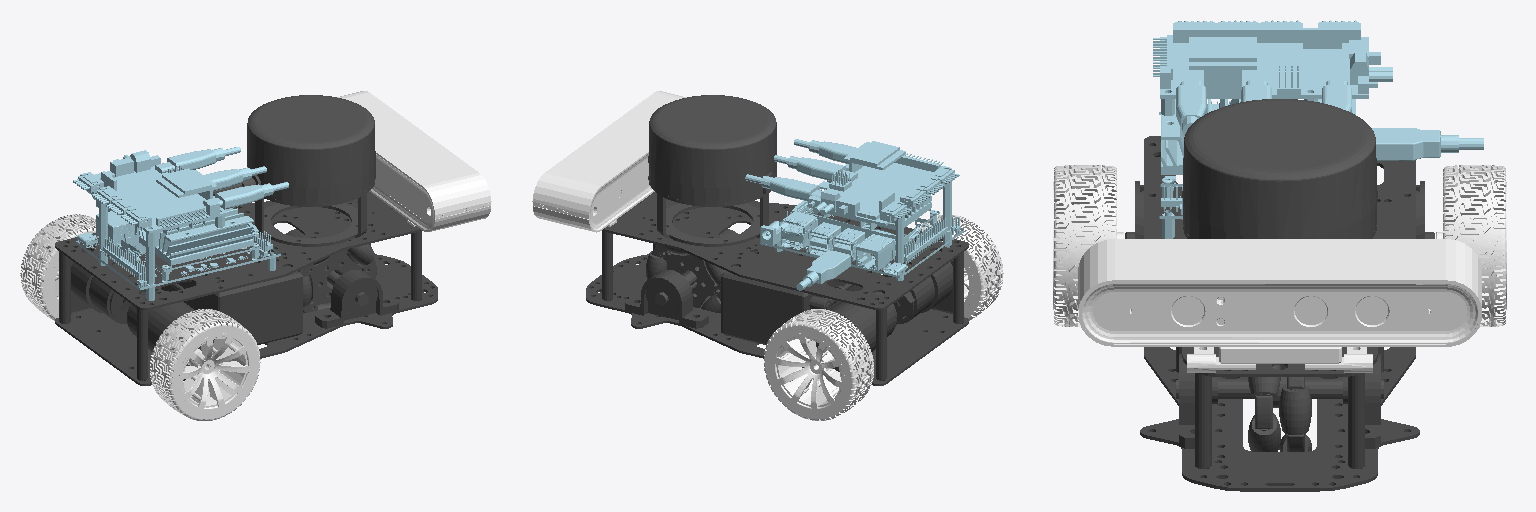
URDF robot description (mini_diff_robot):
<?xml version="1.0" encoding="utf-8"?>
<!-- This URDF was automatically created by SolidWorks to URDF Exporter! Originally created by [author] ([email redacted]) 
     Commit Version: 1.6.0-4-g7f85cfe  Build Version: 1.6.7995.38578
     For more information, please see http://wiki.ros.org/sw_urdf_exporter -->
<robot
  name="mini_diff_robot">
  <link
    name="base_link">
    <inertial>
      <origin
        xyz="-0.0189235960546199 9.05026804837732E-05 0.0215071924292335"
        rpy="0 0 0" />
      <mass
        value="0.401051738530766" />
      <inertia
        ixx="0.000246070776118601"
        ixy="1.87631429488719E-06"
        ixz="7.31414518571882E-07"
        iyy="0.000368949634983636"
        iyz="-4.15485848351081E-07"
        izz="0.000529231877397729" />
    </inertial>
    <visual>
      <origin
        xyz="0 0 0"
        rpy="0 0 0" />
      <geometry>
        <mesh
          filename="package://wheeltec_robot_urdf/meshes/mini_diff_robot_meshes/base_link.STL" />
      </geometry>
      <material
        name="">
        <color
          rgba="0.349019607843137 0.349019607843137 0.349019607843137 1" />
      </material>
    </visual>
    <collision>
      <origin
        xyz="0 0 0"
        rpy="0 0 0" />
      <geometry>
        <mesh
          filename="package://wheeltec_robot_urdf/meshes/mini_diff_robot_meshes/base_link.STL" />
      </geometry>
    </collision>
  </link>
  <link
    name="front_link">
    <inertial>
      <origin
        xyz="-1.47494718217983E-05 -1.93343915743998E-05 -8.69445031316304E-05"
        rpy="0 0 0" />
      <mass
        value="0.0373449888165875" />
      <inertia
        ixx="1.29829858117941E-05"
        ixy="5.65959966526581E-08"
        ixz="4.68086982069799E-08"
        iyy="1.79292839228678E-05"
        iyz="3.01923849693133E-08"
        izz="1.29419322633102E-05" />
    </inertial>
    <visual>
      <origin
        xyz="0 0 0"
        rpy="0 0 0" />
      <geometry>
        <mesh
          filename="package://wheeltec_robot_urdf/meshes/mini_diff_robot_meshes/front_link.STL" />
      </geometry>
      <material
        name="">
        <color
          rgba="0.376470588235294 0.376470588235294 0.376470588235294 1" />
      </material>
    </visual>
    <collision>
      <origin
        xyz="0 0 0"
        rpy="0 0 0" />
      <geometry>
        <mesh
          filename="package://wheeltec_robot_urdf/meshes/mini_diff_robot_meshes/front_link.STL" />
      </geometry>
    </collision>
  </link>
  <joint
    name="front_joint"
    type="continuous">
    <origin
      xyz="0.064002 3.4931E-05 0.0141"
      rpy="0 0 0" />
    <parent
      link="base_link" />
    <child
      link="front_link" />
    <axis
      xyz="-0.0024698 -1 0" />
  </joint>
  <link
    name="left_link">
    <inertial>
      <origin
        xyz="-1.74331101290837E-07 -0.00020820313081131 3.92074334179537E-08"
        rpy="0 0 0" />
      <mass
        value="0.0456749739710292" />
      <inertia
        ixx="1.81808804758144E-05"
        ixy="-1.75758106169756E-11"
        ixz="3.9951170980621E-12"
        iyy="3.14403862750805E-05"
        iyz="1.23310532276976E-11"
        izz="1.81803658343481E-05" />
    </inertial>
    <visual>
      <origin
        xyz="0 0 0"
        rpy="0 0 0" />
      <geometry>
        <mesh
          filename="package://wheeltec_robot_urdf/meshes/mini_diff_robot_meshes/left_link.STL" />
      </geometry>
      <material
        name="">
        <color
          rgba="1 1 1 1" />
      </material>
    </visual>
    <collision>
      <origin
        xyz="0 0 0"
        rpy="0 0 0" />
      <geometry>
        <mesh
          filename="package://wheeltec_robot_urdf/meshes/mini_diff_robot_meshes/left_link.STL" />
      </geometry>
    </collision>
  </link>
  <joint
    name="left_joint"
    type="continuous">
    <origin
      xyz="-0.069657 0.07975 0.0162"
      rpy="0 0 0" />
    <parent
      link="base_link" />
    <child
      link="left_link" />
    <axis
      xyz="0 -1 0" />
  </joint>
  <link
    name="right_link">
    <inertial>
      <origin
        xyz="-1.21870783534317E-07 0.000208202451016909 3.9181444321662E-08"
        rpy="0 0 0" />
      <mass
        value="0.0456749741036597" />
      <inertia
        ixx="1.81808804107878E-05"
        ixy="-1.75851330929254E-11"
        ixz="-3.93260181163677E-12"
        iyy="3.14403862381703E-05"
        iyz="-1.23305982339271E-11"
        izz="1.81803658691048E-05" />
    </inertial>
    <visual>
      <origin
        xyz="0 0 0"
        rpy="0 0 0" />
      <geometry>
        <mesh
          filename="package://wheeltec_robot_urdf/meshes/mini_diff_robot_meshes/right_link.STL" />
      </geometry>
      <material
        name="">
        <color
          rgba="1 1 1 1" />
      </material>
    </visual>
    <collision>
      <origin
        xyz="0 0 0"
        rpy="0 0 0" />
      <geometry>
        <mesh
          filename="package://wheeltec_robot_urdf/meshes/mini_diff_robot_meshes/right_link.STL" />
      </geometry>
    </collision>
  </link>
  <joint
    name="right_joint"
    type="continuous">
    <origin
      xyz="-0.069657 -0.079776 0.0162"
      rpy="0 0 0" />
    <parent
      link="base_link" />
    <child
      link="right_link" />
    <axis
      xyz="0 1 0" />
  </joint>
  <link
    name="controller_link">
    <inertial>
      <origin
        xyz="-0.0513531699176342 0.0474963429876354 0.0444073306956666"
        rpy="0 0 0" />
      <mass
        value="0.0335306890026228" />
      <inertia
        ixx="1.91764077163967E-05"
        ixy="9.52727501026462E-07"
        ixz="-5.8438470510299E-08"
        iyy="2.19811763093923E-05"
        iyz="3.14216738930503E-07"
        izz="4.00893380787536E-05" />
    </inertial>
    <visual>
      <origin
        xyz="0 0 0"
        rpy="0 0 0" />
      <geometry>
        <mesh
          filename="package://wheeltec_robot_urdf/meshes/mini_diff_robot_meshes/controller_link.STL" />
      </geometry>
      <material
        name="">
        <color
          rgba="0.741176470588235 0.901960784313726 0.956862745098039 1" />
      </material>
    </visual>
    <collision>
      <origin
        xyz="0 0 0"
        rpy="0 0 0" />
      <geometry>
        <mesh
          filename="package://wheeltec_robot_urdf/meshes/mini_diff_robot_meshes/controller_link.STL" />
      </geometry>
    </collision>
  </link>
  <joint
    name="controller_joint"
    type="fixed">
    <origin
      xyz="-0.00035718 -0.04684 0.0515"
      rpy="0 0 0" />
    <parent
      link="base_link" />
    <child
      link="controller_link" />
    <axis
      xyz="0 0 0" />
  </joint>
  <link
    name="laser_link">
    <inertial>
      <origin
        xyz="0.00196458631141112 -3.57895386319134E-06 -0.000201831632453575"
        rpy="0 0 0" />
      <mass
        value="0.047751916373633" />
      <inertia
        ixx="3.38461999752882E-05"
        ixy="-2.19897167172158E-09"
        ixz="1.07118468708652E-06"
        iyy="3.94150415870058E-05"
        iyz="6.83978371158863E-10"
        izz="5.60787042116943E-05" />
    </inertial>
    <visual>
      <origin
        xyz="0 0 0"
        rpy="0 0 0" />
      <geometry>
        <mesh
          filename="package://wheeltec_robot_urdf/meshes/mini_diff_robot_meshes/laser.STL" />
      </geometry>
      <material
        name="">
        <color
          rgba="0.376470588235294 0.376470588235294 0.376470588235294 1" />
      </material>
    </visual>
    <collision>
      <origin
        xyz="0 0 0"
        rpy="0 0 0" />
      <geometry>
        <mesh
          filename="package://wheeltec_robot_urdf/meshes/mini_diff_robot_meshes/laser.STL" />
      </geometry>
    </collision>
  </link>
  <joint
    name="laser_joint"
    type="fixed">
    <origin
      xyz="0.051343 -1.2576E-05 0.094524"
      rpy="0 0 3.1416" />
    <parent
      link="base_link" />
    <child
      link="laser_link" />
    <axis
      xyz="0 0 0" />
  </joint>
  <link
    name="camera_link">
    <inertial>
      <origin
        xyz="-3.17419041426237E-07 -3.53954923411071E-07 1.07624235690107E-07"
        rpy="0 0 0" />
      <mass
        value="0.0559842512080128" />
      <inertia
        ixx="0.000130810959339215"
        ixy="1.20255128206772E-07"
        ixz="1.62335437080119E-06"
        iyy="1.91148634967908E-05"
        iyz="-2.80016755802384E-08"
        izz="0.000131387469523029" />
    </inertial>
    <visual>
      <origin
        xyz="0 0 0"
        rpy="0 0 0" />
      <geometry>
        <mesh
          filename="package://wheeltec_robot_urdf/meshes/mini_diff_robot_meshes/camera_link.STL" />
      </geometry>
      <material
        name="">
        <color
          rgba="1 1 1 1" />
      </material>
    </visual>
    <collision>
      <origin
        xyz="0 0 0"
        rpy="0 0 0" />
      <geometry>
        <mesh
          filename="package://wheeltec_robot_urdf/meshes/mini_diff_robot_meshes/camera_link.STL" />
      </geometry>
    </collision>
  </link>
  <joint
    name="camera_joint"
    type="fixed">
    <origin
      xyz="0.113645491027958 0.000165424573388292 0.076204"
      rpy="0 0 0" />
    <parent
      link="base_link" />
    <child
      link="camera_link" />
    <axis
      xyz="0 0 0" />
  </joint>
</robot>

--- What the picture shows (computed from the rendered views, not written in the file) ---
Views: 3 orthographic renders of the robot side by side, from view 1: azimuth 30°, elevation 25°; view 2: azimuth 150°, elevation 25°; view 3: azimuth 270°, elevation 25°.
Model mini_diff_robot with 7 links and 6 joints (3 continuous, 3 fixed), rooted at base_link, posed all joints at 0.
Links seen in each view (by area): view 1: base_link, controller_link, laser_link, camera_link, right_link, left_link, front_link; view 2: base_link, controller_link, laser_link, camera_link, left_link, right_link, front_link; view 3: camera_link, base_link, laser_link, controller_link, right_link, left_link, front_link.
Link boxes in pixels (x1,y1,x2,y2): base_link: (55, 192, 437, 385); controller_link: (73, 147, 288, 300); laser_link: (213, 95, 375, 246); camera_link: (337, 91, 491, 231); right_link: (150, 309, 260, 420); left_link: (20, 214, 95, 320); front_link: (298, 244, 376, 313); base_link: (586, 192, 968, 385); controller_link: (745, 139, 963, 290); laser_link: (648, 95, 776, 246); camera_link: (532, 91, 686, 232); left_link: (764, 309, 873, 420); right_link: (914, 215, 1003, 320); front_link: (646, 234, 725, 312); camera_link: (1078, 239, 1481, 372); base_link: (1125, 136, 1434, 491); laser_link: (1182, 99, 1377, 238); controller_link: (1153, 20, 1483, 238); right_link: (1053, 165, 1123, 326); left_link: (1436, 165, 1506, 327); front_link: (1176, 365, 1383, 451).
Bounding box of the posed robot: 0.2346 × 0.1847 × 0.1394 m (x, y, z).
7 mesh visuals loaded from 7 distinct referenced files (7 binary STL).